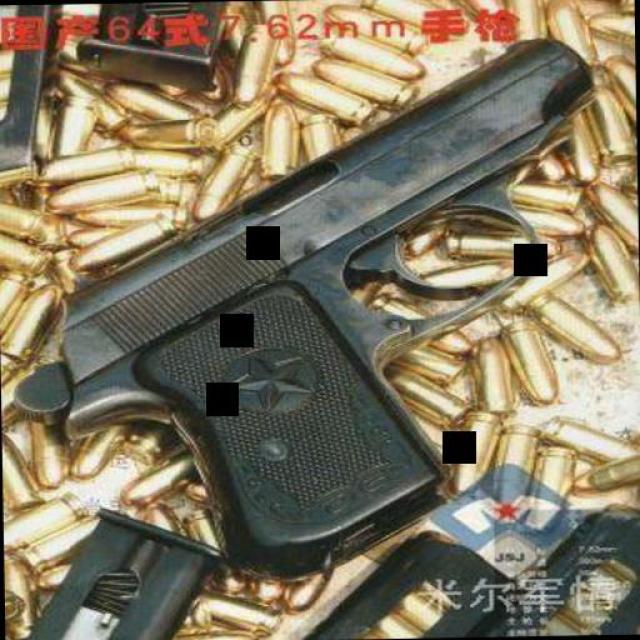gun: (2, 32, 600, 576)
